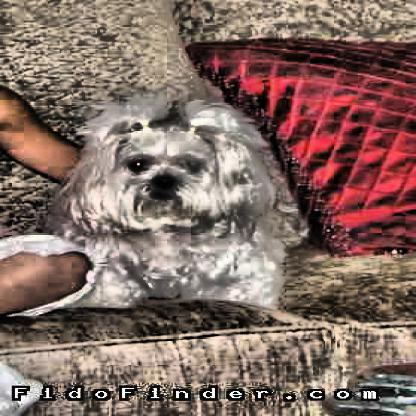dog: (73, 98, 279, 240)
